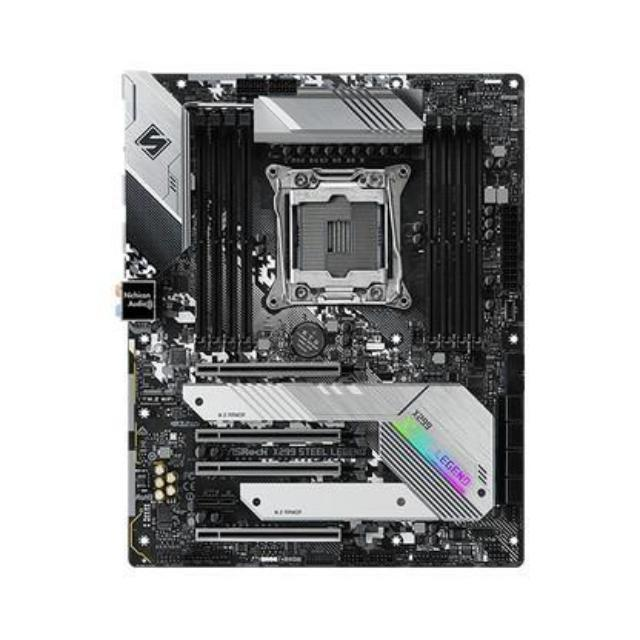Mainboard: (108, 63, 538, 577)
